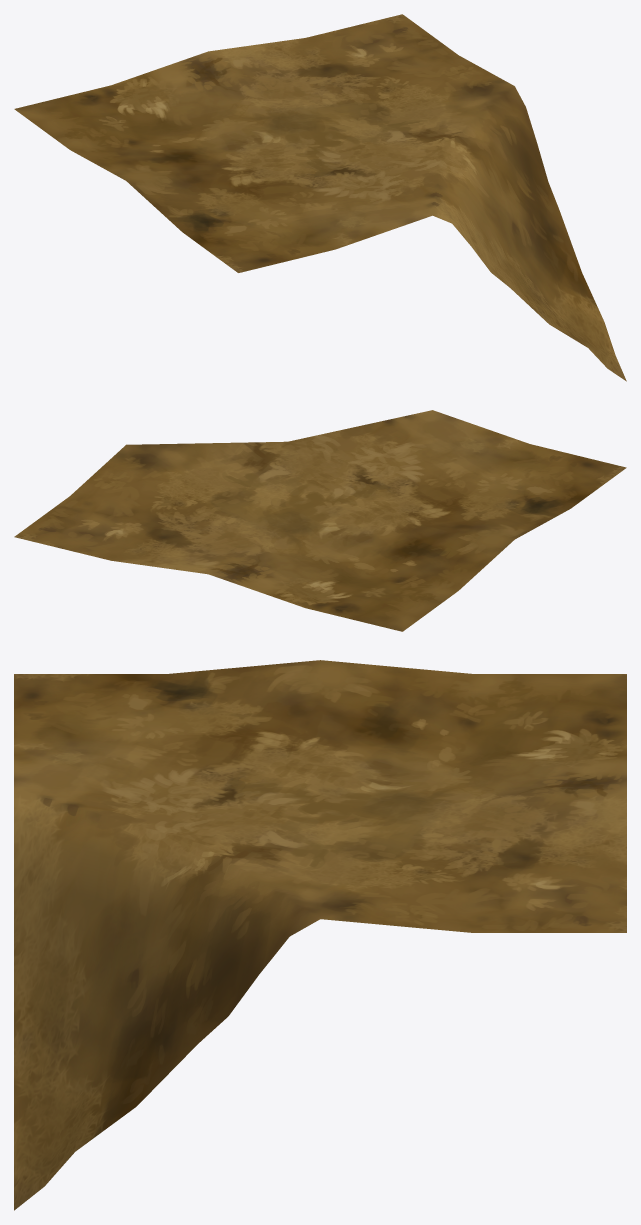
File: Levelled_Slope_Incline_008.fbx
The picture shows the model from 3 angles, top to bottom: view 1: azimuth 30°, elevation 25°; view 2: azimuth 150°, elevation 25°; view 3: azimuth 270°, elevation 25°; orthographic projection. The views are drawn at different scales.
Visible parts, largest first — view 1: Levelled_Slope_incline_008; view 2: Levelled_Slope_incline_008; view 3: Levelled_Slope_incline_008.
Part boxes in pixels (left/top/right/bottom): Levelled_Slope_incline_008: left=14, top=14, right=626, bottom=381; Levelled_Slope_incline_008: left=14, top=410, right=626, bottom=631; Levelled_Slope_incline_008: left=14, top=660, right=626, bottom=1210.
Size of the model in its own units: 10 by 5.25 by 10.
1 material, 1 textured.
